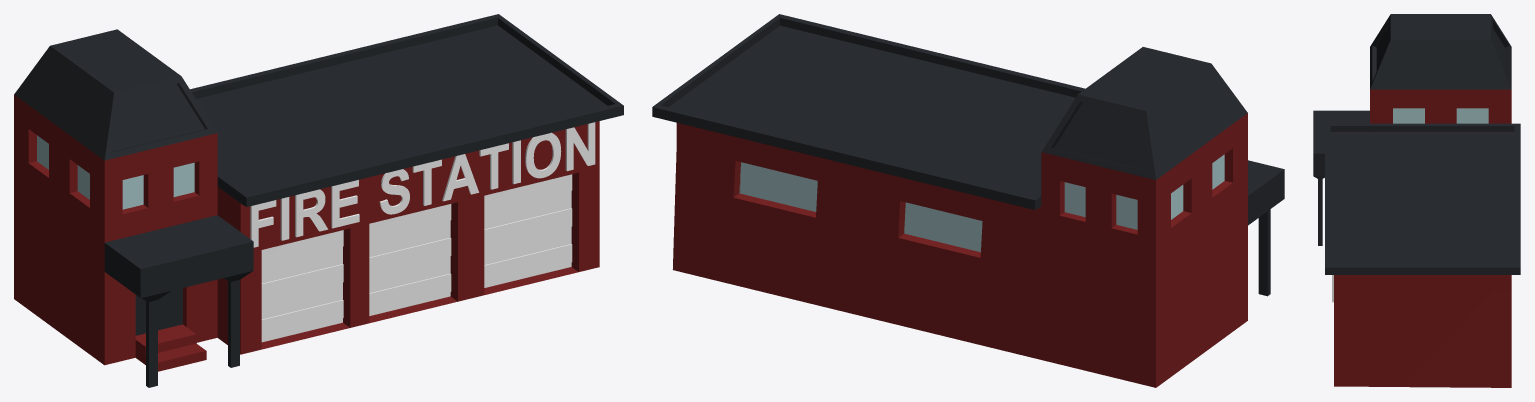
The model's file is FireStationFBX.FBX.
The picture shows the model from 3 angles, left to right: view 1: azimuth 30°, elevation 25°; view 2: azimuth 150°, elevation 25°; view 3: azimuth 270°, elevation 25°; orthographic projection. The views are drawn at different scales.
Visible parts, largest first — view 1: Box001; view 2: Box001; view 3: Box001.
Part boxes in pixels (x1=…): Box001: x1=14, y1=14, x2=623, y2=387; Box001: x1=652, y1=14, x2=1284, y2=387; Box001: x1=1313, y1=14, x2=1520, y2=387.
Bounding box in the file's own units: 108 × 50.6 × 54.42.
1 material, 1 textured.
